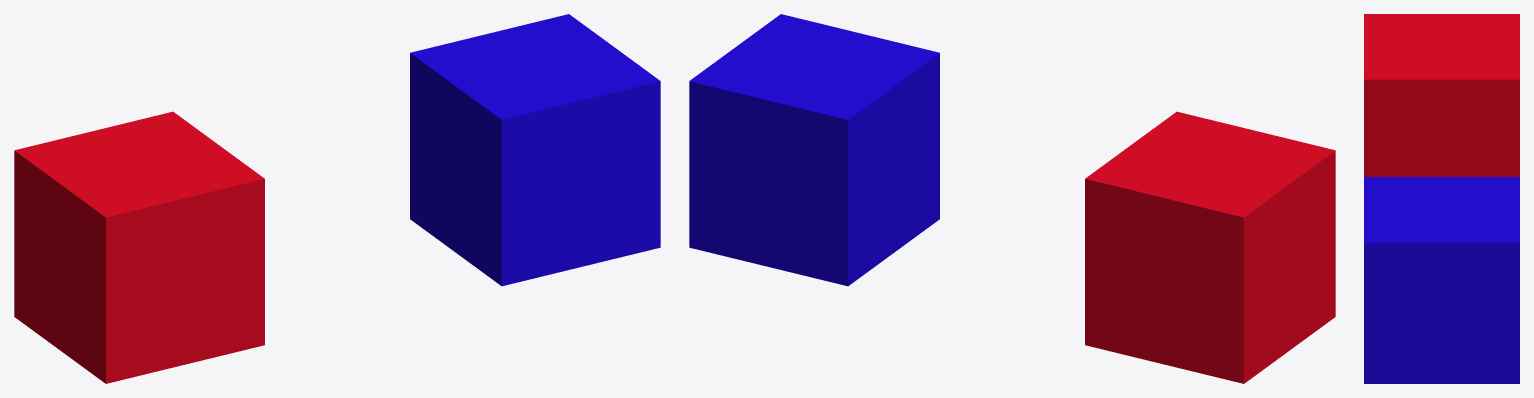
3 renders of one model, left to right at view 1: azimuth 30°, elevation 25°; view 2: azimuth 150°, elevation 25°; view 3: azimuth 270°, elevation 25°, orthographic. The views are drawn at different scales.
Visible parts, largest first — view 1: Show, Galeria; view 2: Show, Galeria; view 3: Galeria, Show.
Boxes of the visible parts, x1,y1,x2,y2 form: Show: [14, 111, 264, 383]; Galeria: [410, 14, 660, 286]; Show: [1085, 111, 1335, 383]; Galeria: [689, 14, 939, 286]; Galeria: [1364, 177, 1519, 383]; Show: [1364, 14, 1519, 176].
Size of what is drawn, in the model's own units: 6.98 by 2.01 by 2.
